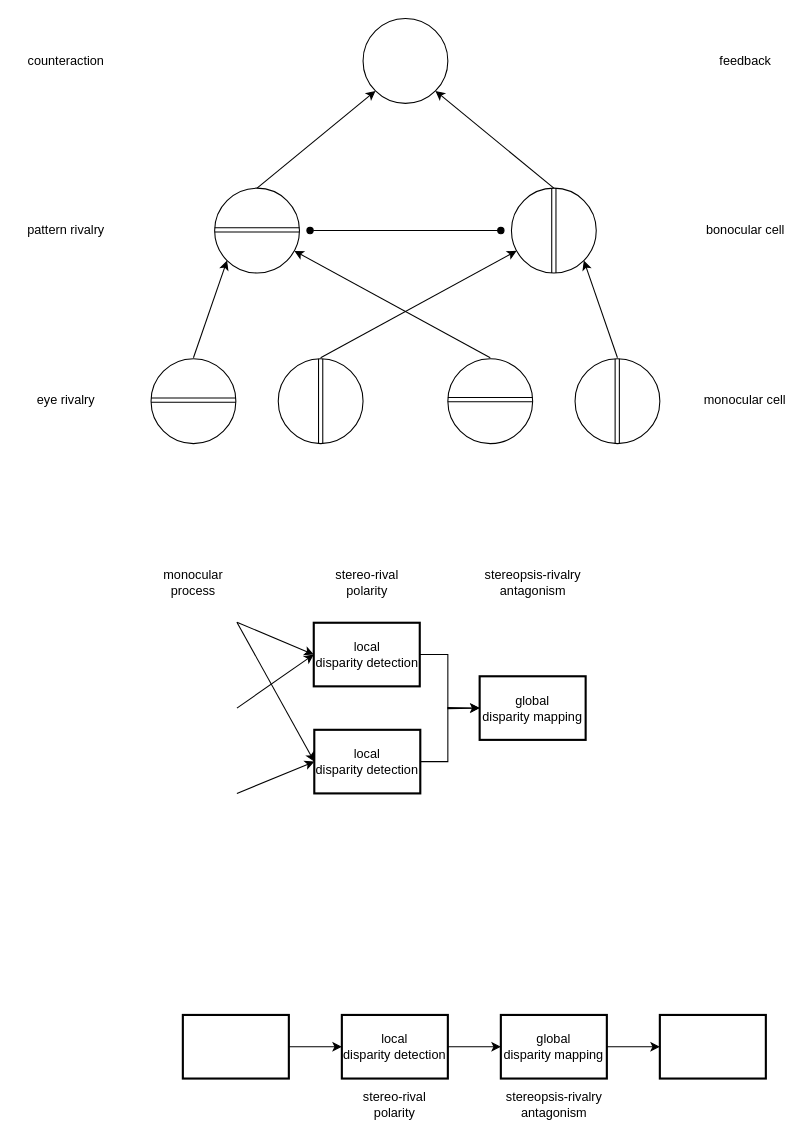
The diagram is 811 pixels wide and 1139 high, and some of its shapes have lost their labels. The centre of each missing label's shape, as x and y in pixels:
"monoclar process" belongs at pixel 235 1046.
"output" belongs at pixel 405 60.
"stereoscopic depth output" belongs at pixel 712 1046.
